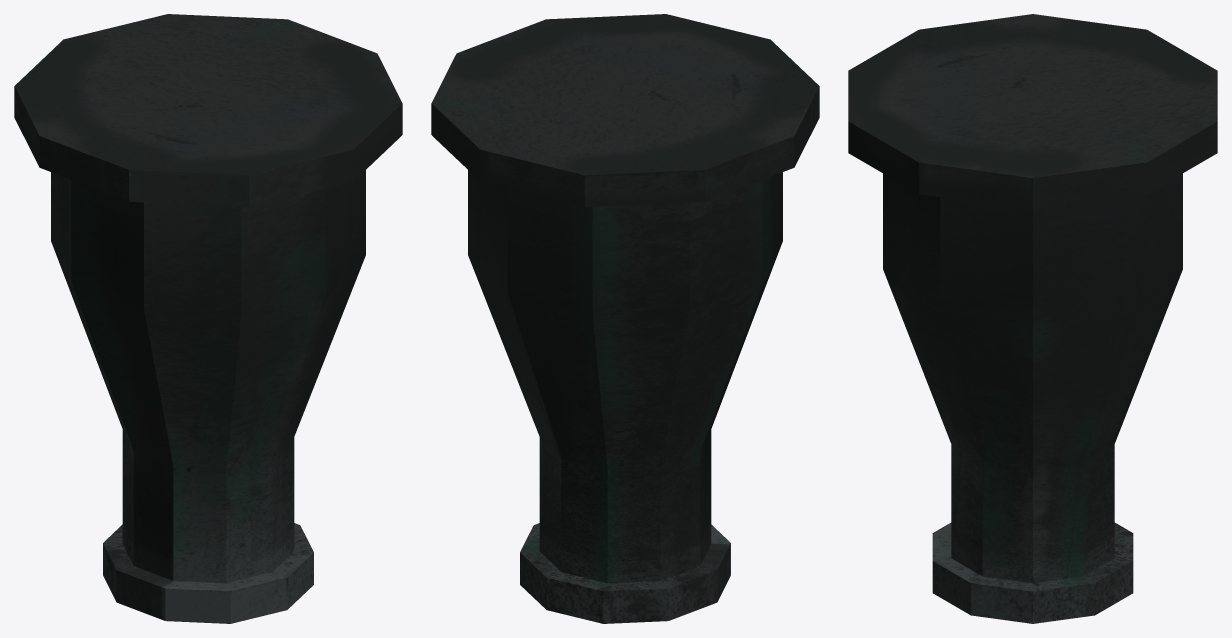
Rendered from Pipe Transition M to L.fbx.
3 views of the same model, side by side, from view 1: azimuth 30°, elevation 25°; view 2: azimuth 150°, elevation 25°; view 3: azimuth 270°, elevation 25° (orthographic).
Parts seen in each view (by area): view 1: Transition_L_M; view 2: Transition_L_M; view 3: Transition_L_M.
Boxes of the visible parts, box(x1,y1,x2,y2) form: Transition_L_M: box(14, 14, 402, 623); Transition_L_M: box(431, 14, 819, 623); Transition_L_M: box(848, 14, 1217, 623).
Bounding box in the file's own units: 4.49 × 6.17 × 4.27.
Materials: 1 (1 with a texture image).
